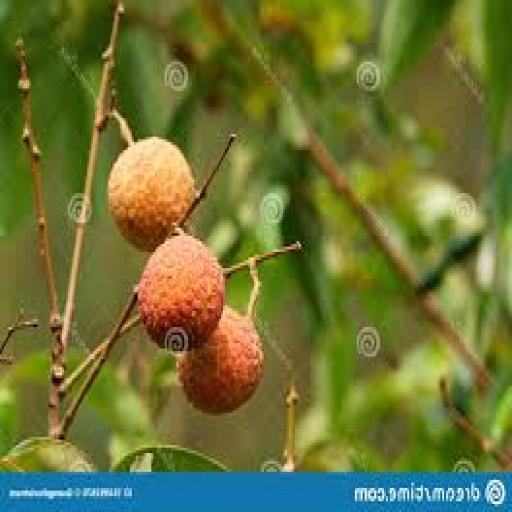lychee: (137, 234, 223, 351), (108, 137, 194, 251), (178, 306, 262, 415)
